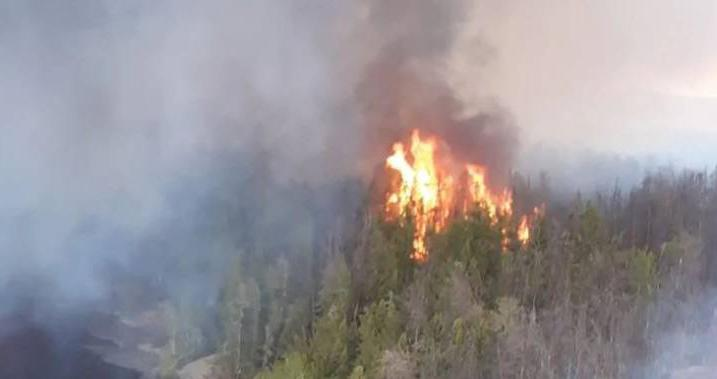fire: (379, 125, 546, 254)
